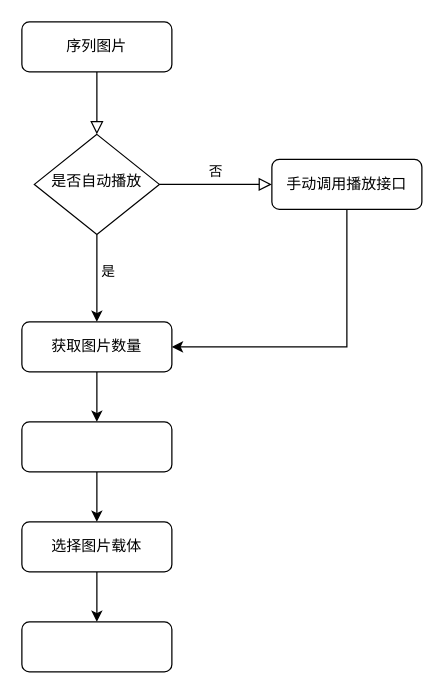
Image size: 444x694. Some labels were removed from this diagram. The centre of each missing label's shape, as x and y in pixels:
"效果显示" goes at (96,646).
"设置图片切换效果" goes at (96,446).
